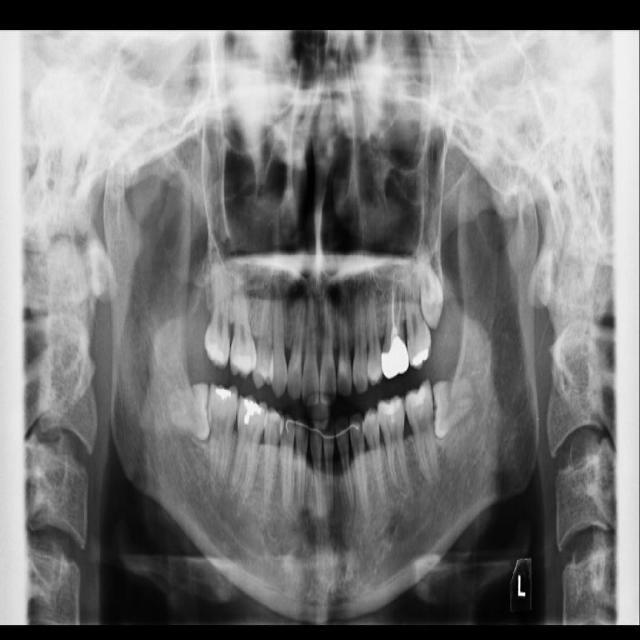52: (396, 380, 443, 425), (235, 396, 270, 436), (207, 384, 239, 423), (406, 324, 432, 371), (378, 346, 413, 380), (377, 396, 408, 434)
73: (382, 271, 411, 354), (628, 613, 634, 619)
BioHorizons Implant: (400, 250, 433, 369)
BioLife Implant: (415, 235, 446, 330)
Biomet 3i Implant: (433, 378, 473, 438)
Blue Sky Bio Implant: (402, 378, 443, 483)
Caries: (204, 246, 233, 368)
Implant: (204, 385, 239, 487)
Keystone Dental Implant: (167, 383, 214, 442)
